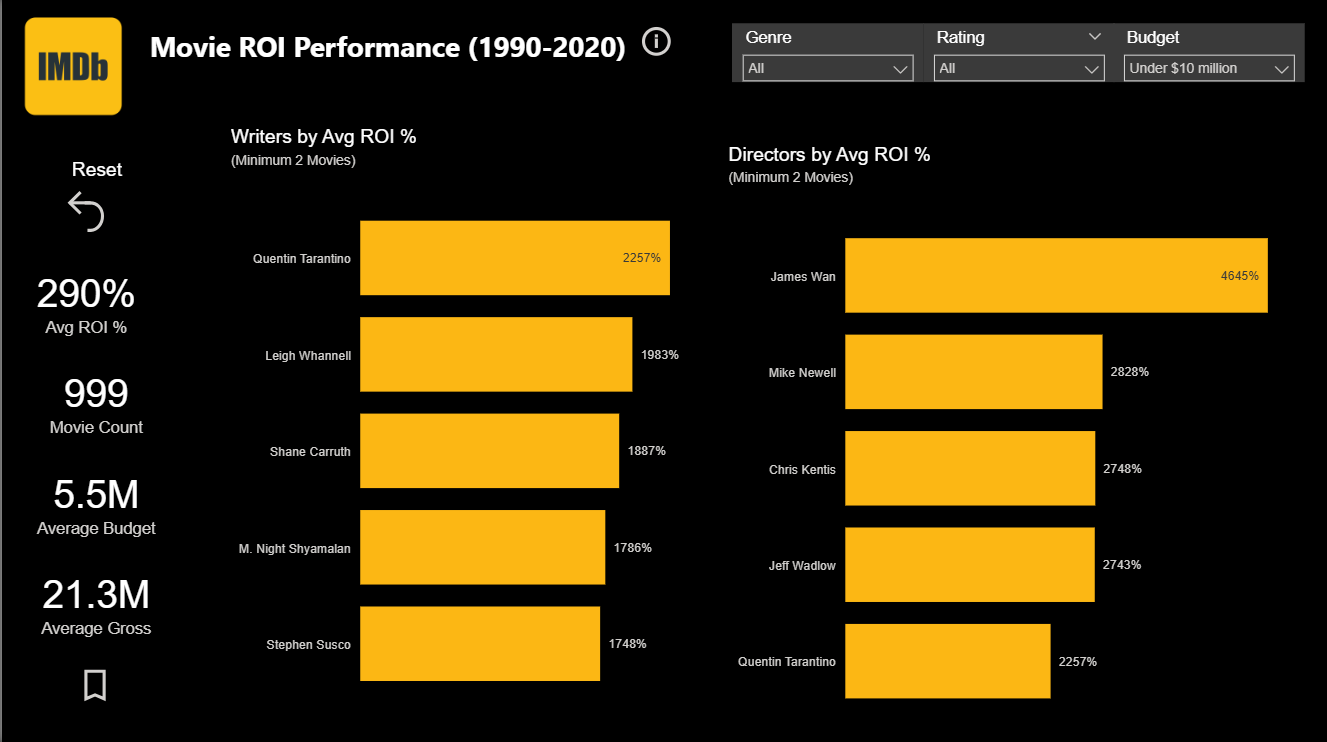

What the dashboard file says about the page in this screenshot:
{"tool":"powerbi","page":{"name":"Writers & Directors","canvas":[1280,720],"ordinal":1},"visuals":[{"type":"image","box":[9.7,9.7,118.2,114.6],"z":0},{"type":"textbox","box":[137.5,24.1,475.3,49.5],"z":1000},{"type":"barChart","title":"Directors by Avg ROI %","fields":{"Category":["vw_MovieROI_Fact.director"],"Y":["vw_MovieROI_Fact.Portfolio ROI %"]},"box":[695.9,140.6,574.9,580.2],"z":2000},{"type":"slicer","fields":{"Values":["vw_MovieROI_Fact.genre"]},"box":[704.1,24.9,185.1,57],"z":3000},{"type":"slicer","fields":{"Values":["vw_MovieROI_Fact.rating"]},"box":[889.2,24.9,185.1,57],"z":4000},{"type":"slicer","fields":{"Values":["vw_MovieROI_Fact.budget_category"]},"box":[1072.5,24.9,185.1,57],"z":5000},{"type":"card","fields":{"Values":["vw_MovieROI_Fact.Portfolio ROI %"]},"box":[0,245.3,163,96.7],"z":6000},{"type":"card","fields":{"Values":["vw_MovieROI_Fact.Average Budget"]},"box":[10.1,438.6,163,96.7],"z":7000},{"type":"card","fields":{"Values":["vw_MovieROI_Fact.Average Gross"]},"box":[10.1,535.3,163,96.7],"z":8000},{"type":"card","fields":{"Values":["vw_MovieROI_Fact.Movie Count"]},"box":[10.1,341.9,163,96.7],"z":9000},{"type":"barChart","title":"Writers by Avg ROI %","fields":{"Category":["vw_MovieROI_Fact.writer"],"Y":["vw_MovieROI_Fact.Portfolio ROI %"]},"box":[216,124.3,477.8,580.3],"z":10000},{"type":"actionButton","title":"Reset","box":[55.5,155.6,72.4,77.2],"z":11000},{"type":"actionButton","box":[612.9,24.1,43.4,37.4],"z":12000},{"type":"actionButton","box":[70,644.2,43.4,39.8],"z":13000}]}

Visuals, with their boxes in screenshot pixels (x1, y1, x2, y2), scaled from the page's 1280x720 canvas onto the 1327x742 screenshot:
image: 10, 10, 133, 128
textbox: 143, 25, 635, 76
"Directors by Avg ROI %" barChart: 721, 145, 1317, 741
slicer - vw_MovieROI_Fact.genre: 730, 26, 922, 84
slicer - vw_MovieROI_Fact.rating: 922, 26, 1114, 84
slicer - vw_MovieROI_Fact.budget_category: 1112, 26, 1304, 84
card - vw_MovieROI_Fact.Portfolio ROI %: 0, 253, 169, 352
card - vw_MovieROI_Fact.Average Budget: 10, 452, 179, 552
card - vw_MovieROI_Fact.Average Gross: 10, 552, 179, 651
card - vw_MovieROI_Fact.Movie Count: 10, 352, 179, 452
"Writers by Avg ROI %" barChart: 224, 128, 719, 726
"Reset" actionButton: 58, 160, 133, 240
actionButton: 635, 25, 680, 63
actionButton: 73, 664, 118, 705
